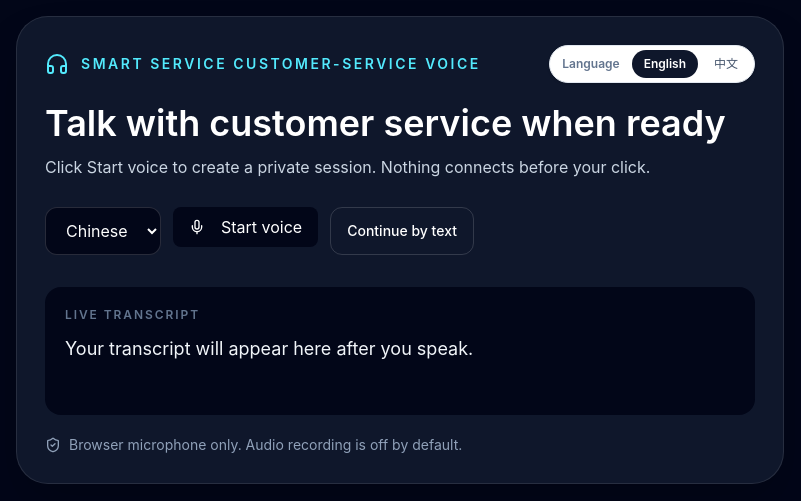
VoiceExperience › creates no session before click and requests microphone only after Ready
Click the button "Start voice": (246, 227) left=173, top=207, right=318, bottom=247
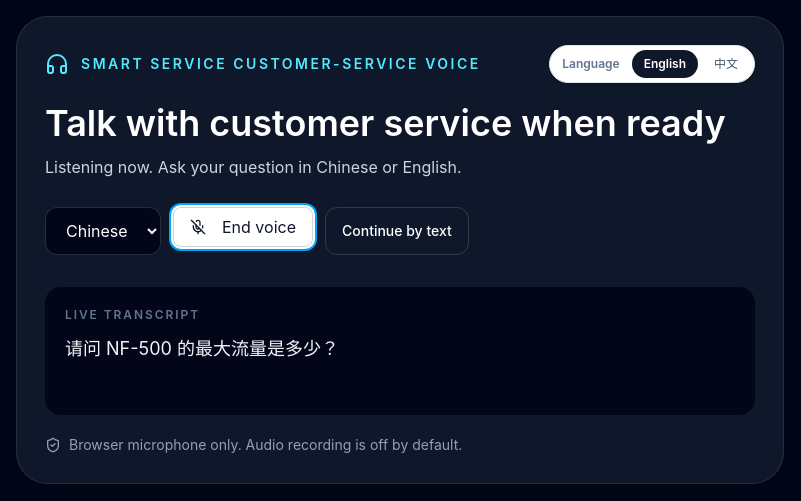
Result: the text "Listening now. Ask your question in Chinese or English." is shown at left=45, top=157, right=462, bottom=177
Result: the text "请问 NF-500 的最大流量是多少？" is shown at left=65, top=338, right=339, bottom=359
